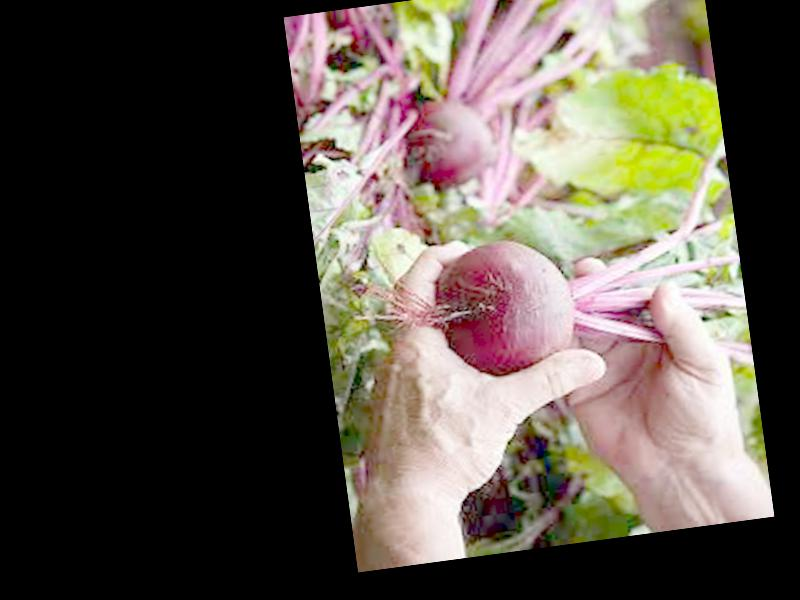Beet: (418, 137, 748, 386)
